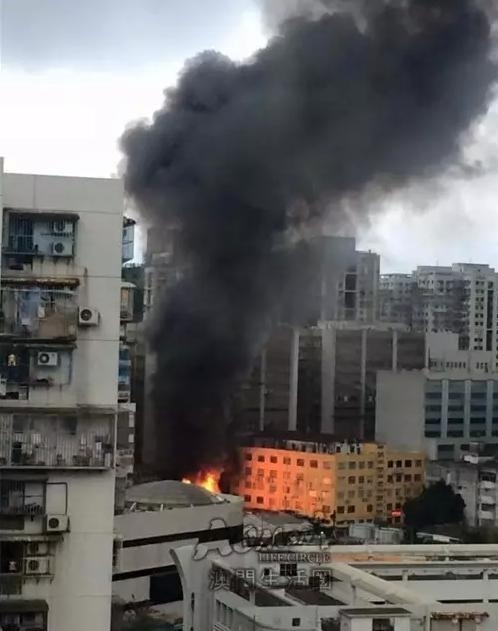fire: (184, 465, 224, 494)
